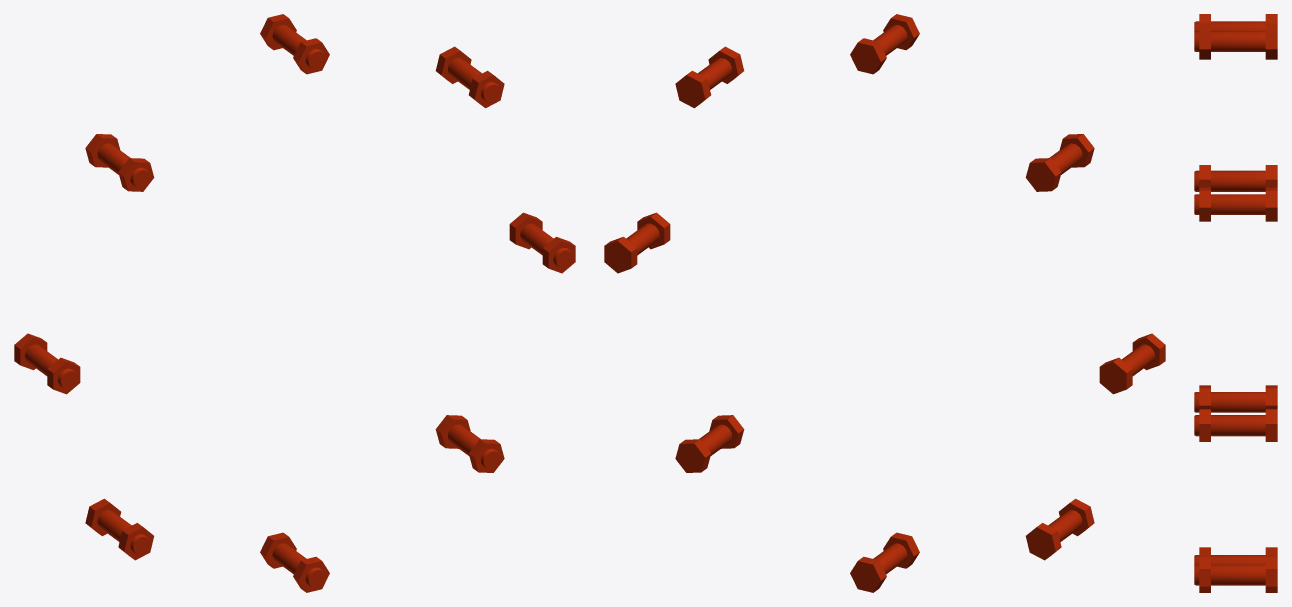
Rendered from Bolt_x8_02.FBX.
The picture shows the model from 3 angles, left to right: view 1: azimuth 30°, elevation 25°; view 2: azimuth 150°, elevation 25°; view 3: azimuth 270°, elevation 25°; orthographic projection.
Parts seen in each view (by area): view 1: Bolt_02; view 2: Bolt_02; view 3: Bolt_02.
Part boxes in pixels (<box>): Bolt_02: <box>14,14,575,592</box>; Bolt_02: <box>604,14,1165,592</box>; Bolt_02: <box>1194,14,1277,592</box>.
Bounding box in the file's own units: 36.91 × 36.91 × 5.06.
